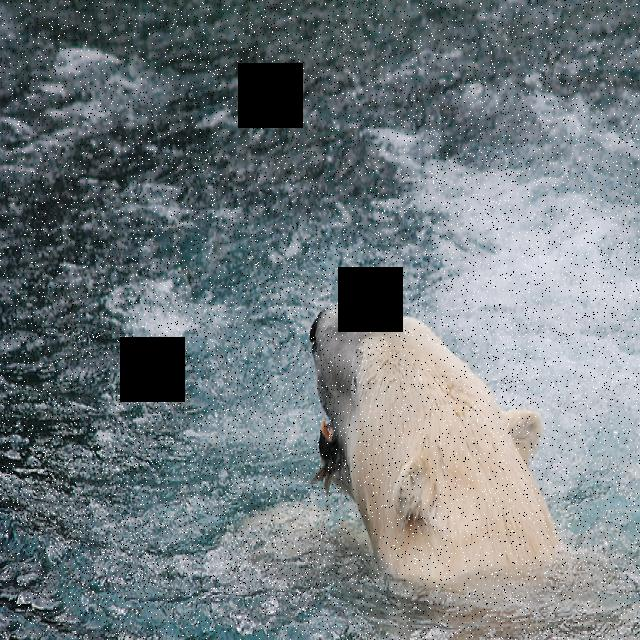Bear: (289, 286, 591, 621)
